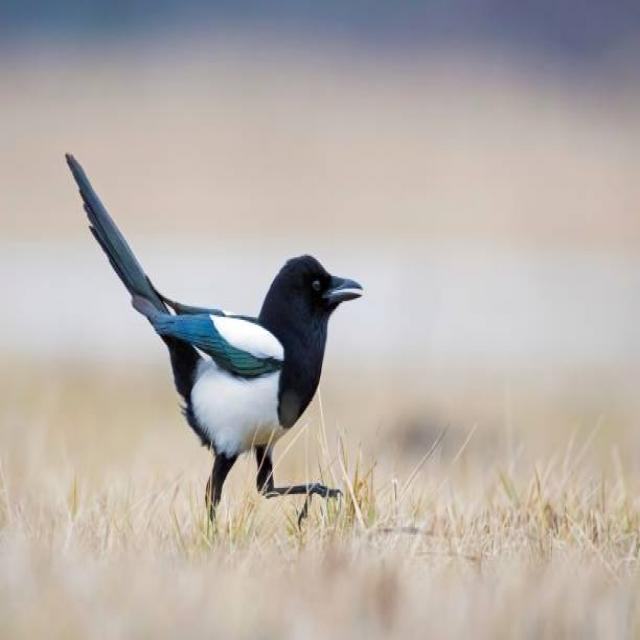Magpie: (63, 149, 363, 539)
